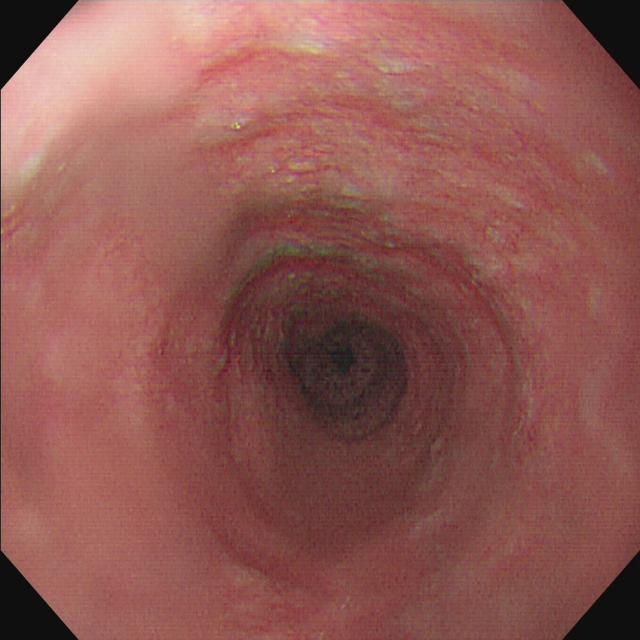E: (287, 314, 405, 435)
